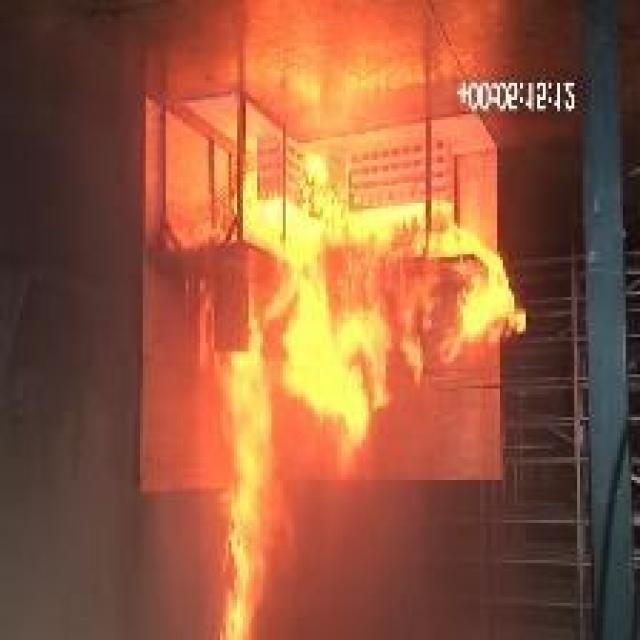fire: (87, 100, 587, 637)
